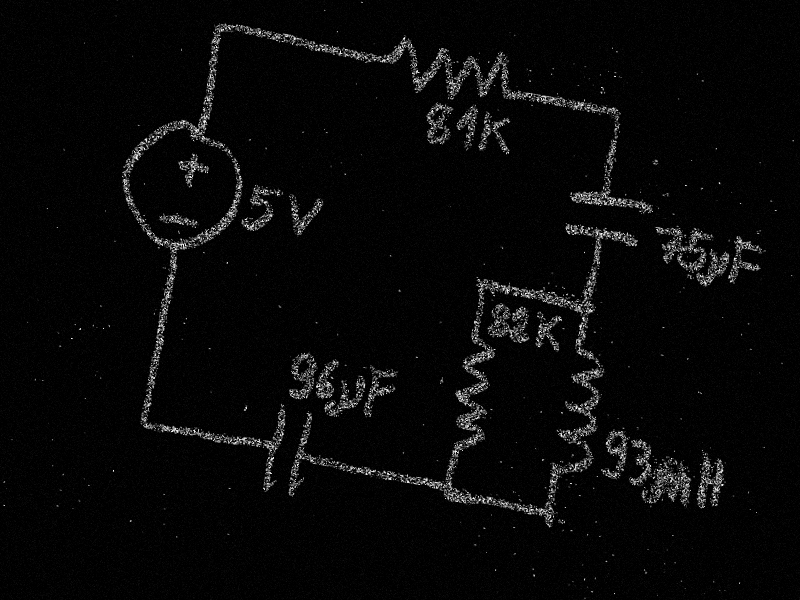1: (450, 100, 482, 155)
2: (508, 304, 535, 346)
3: (624, 437, 655, 488)
5: (240, 179, 284, 238), (681, 222, 715, 278)
6: (313, 355, 340, 402)
7: (649, 221, 689, 271)
8: (421, 99, 456, 149), (484, 300, 513, 341)
9: (282, 348, 319, 403), (598, 426, 630, 482)
F: (362, 363, 399, 422), (727, 234, 765, 291)
H: (692, 449, 728, 512)
V: (280, 190, 327, 242)
k: (477, 107, 517, 162), (531, 310, 565, 354)
m: (648, 464, 694, 510)
u: (331, 372, 367, 421), (704, 249, 730, 288)
